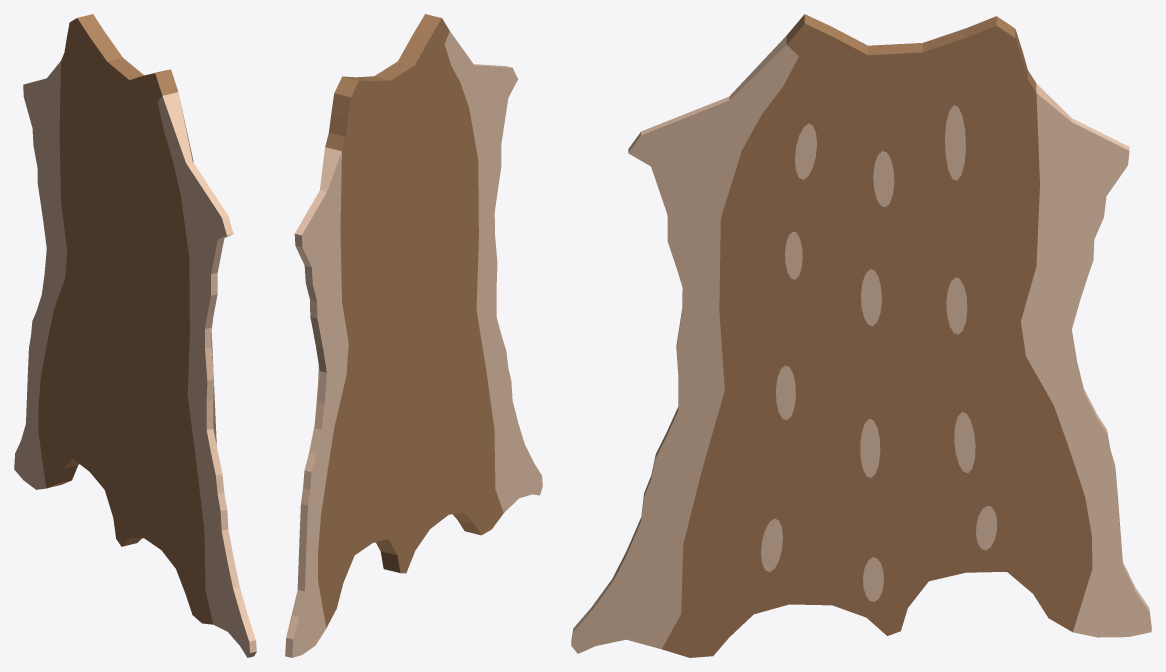
Rendered from Skin.fbx.
The picture shows the model from 3 angles, left to right: view 1: azimuth 30°, elevation 25°; view 2: azimuth 150°, elevation 25°; view 3: azimuth 270°, elevation 25°; orthographic projection. The views are drawn at different scales.
Visible parts, largest first — view 1: Plane; view 2: Plane; view 3: Plane.
Part boxes in pixels (x1=…): Plane: x1=14, y1=14, x2=256, y2=657; Plane: x1=285, y1=14, x2=542, y2=657; Plane: x1=571, y1=14, x2=1151, y2=657.
Bounding box in the file's own units: 1.94 × 59.21 × 48.98.
